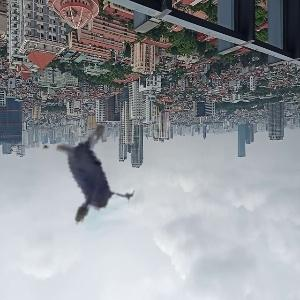drone: (7, 96, 171, 260)
